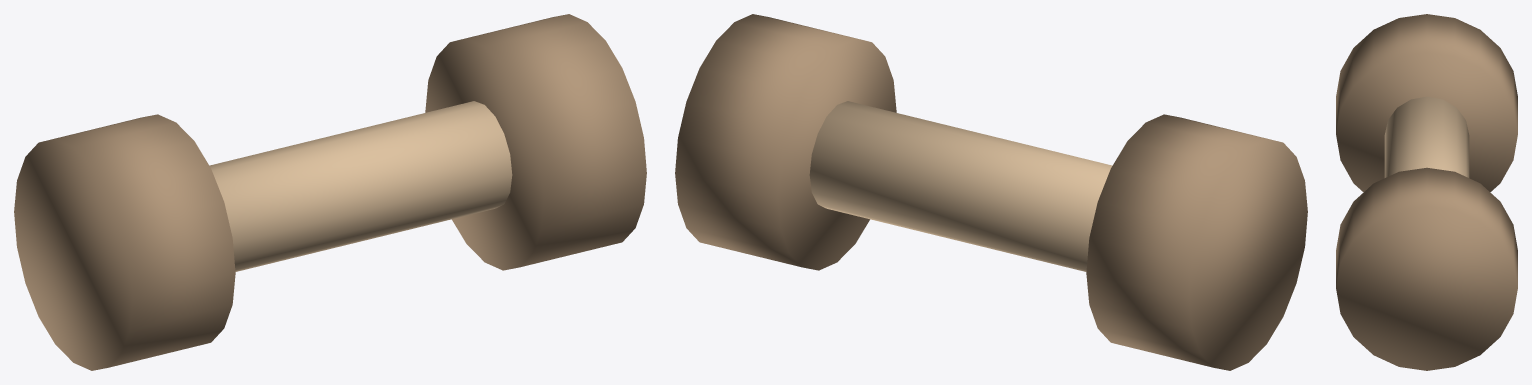
Rendered from prop_chew_toy.glb.
The picture shows the model from 3 angles, left to right: view 1: azimuth 30°, elevation 25°; view 2: azimuth 150°, elevation 25°; view 3: azimuth 270°, elevation 25°; orthographic projection. The views are drawn at different scales.
Visible parts, largest first — view 1: prop_chew_end_L, prop_chew_end_R, prop_chew_bar; view 2: prop_chew_end_L, prop_chew_end_R, prop_chew_bar; view 3: prop_chew_end_R, prop_chew_end_L, prop_chew_bar.
Boxes of the visible parts, <box> form: prop_chew_end_L: <box>14,114,235,370</box>; prop_chew_end_R: <box>425,14,646,270</box>; prop_chew_bar: <box>209,101,512,271</box>; prop_chew_end_L: <box>1086,114,1307,370</box>; prop_chew_end_R: <box>675,14,896,270</box>; prop_chew_bar: <box>809,101,1112,271</box>; prop_chew_end_R: <box>1336,167,1517,370</box>; prop_chew_end_L: <box>1336,14,1517,192</box>; prop_chew_bar: <box>1384,96,1469,177</box>.
Size of the model in its own units: 0.07 by 0.028 by 0.028.
